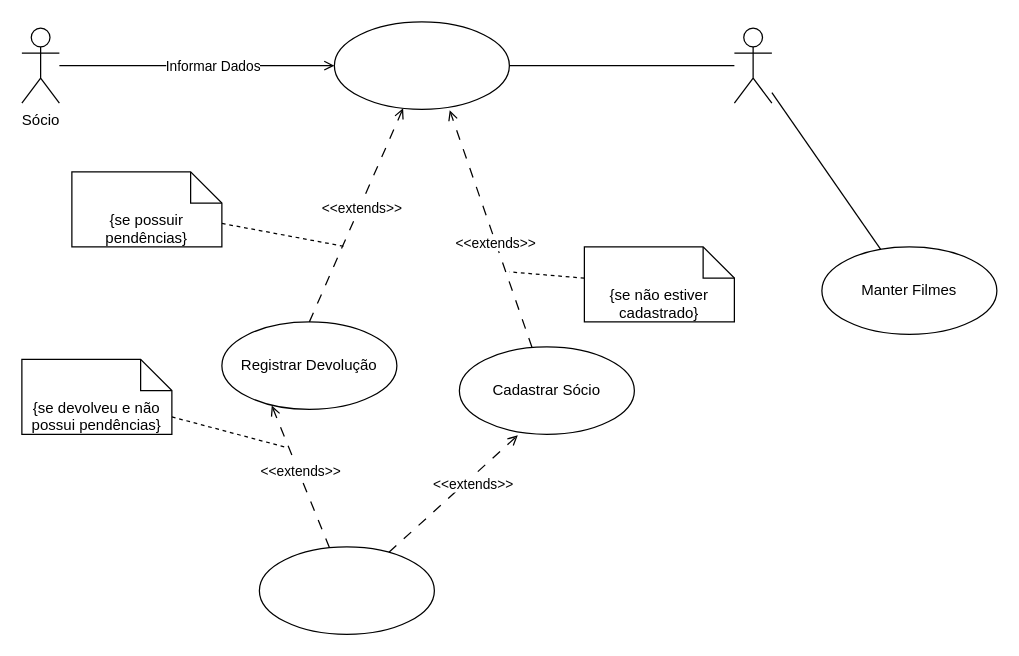
Image size: 1019x656. Some labels were removed from this diagram. Each missing label, with the box of its shape:
Atendente: (733, 27, 772, 103)
Consultar Sócio: (333, 21, 509, 109)
Realizar Locação: (258, 546, 434, 634)
